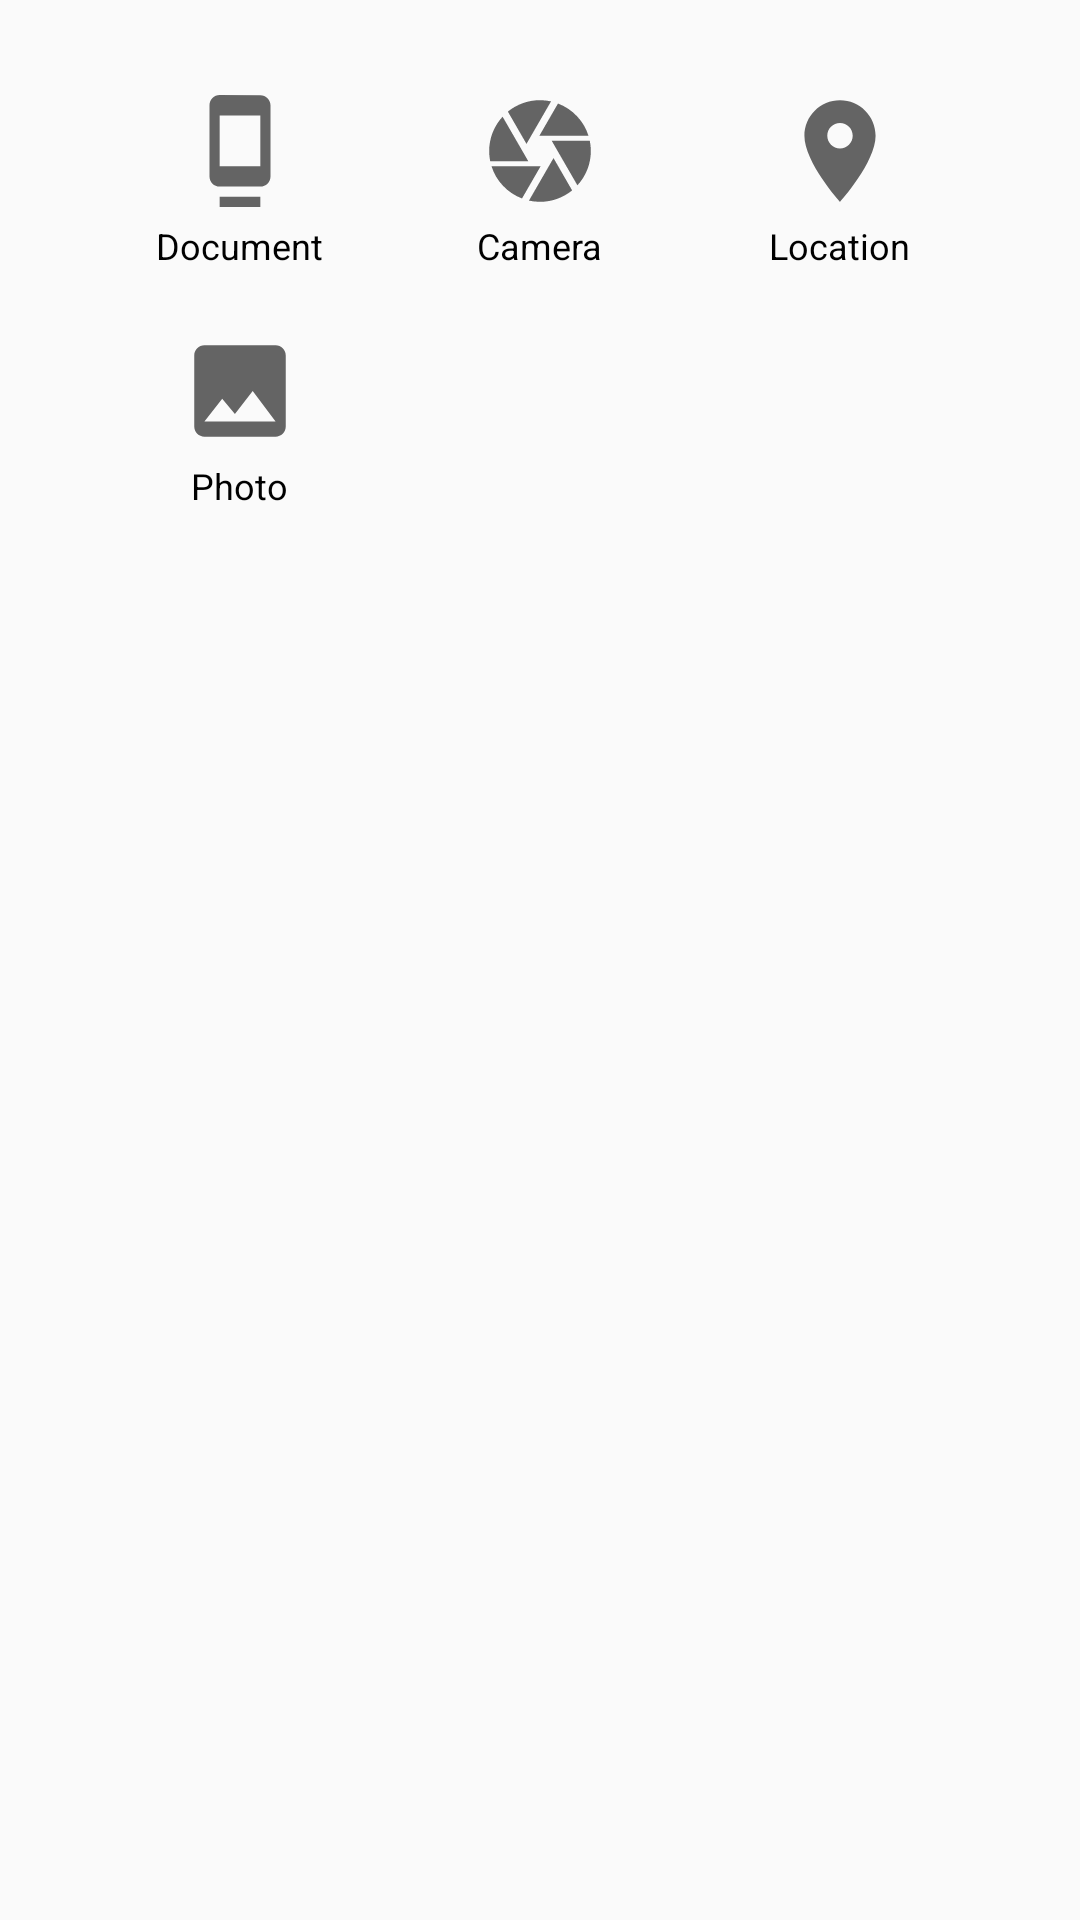

Where to tap for icons on this 1080 x 1920 app screen, as point (x, y):
dock: point (240, 151)
